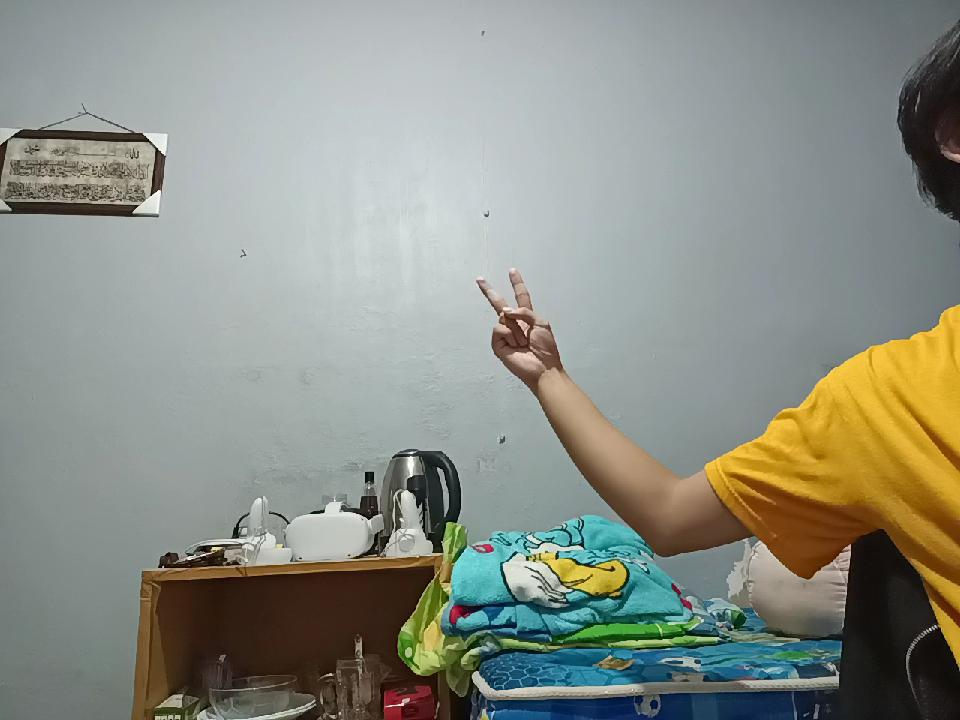scissors: (479, 250, 566, 394)
